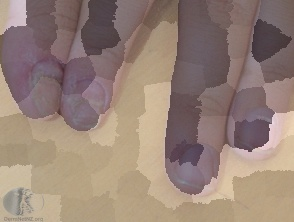Nail_psoriasis: (52, 76, 115, 138), (23, 64, 65, 123)
